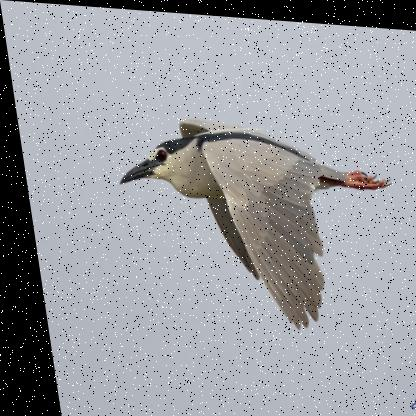Burung: (103, 108, 405, 333)
